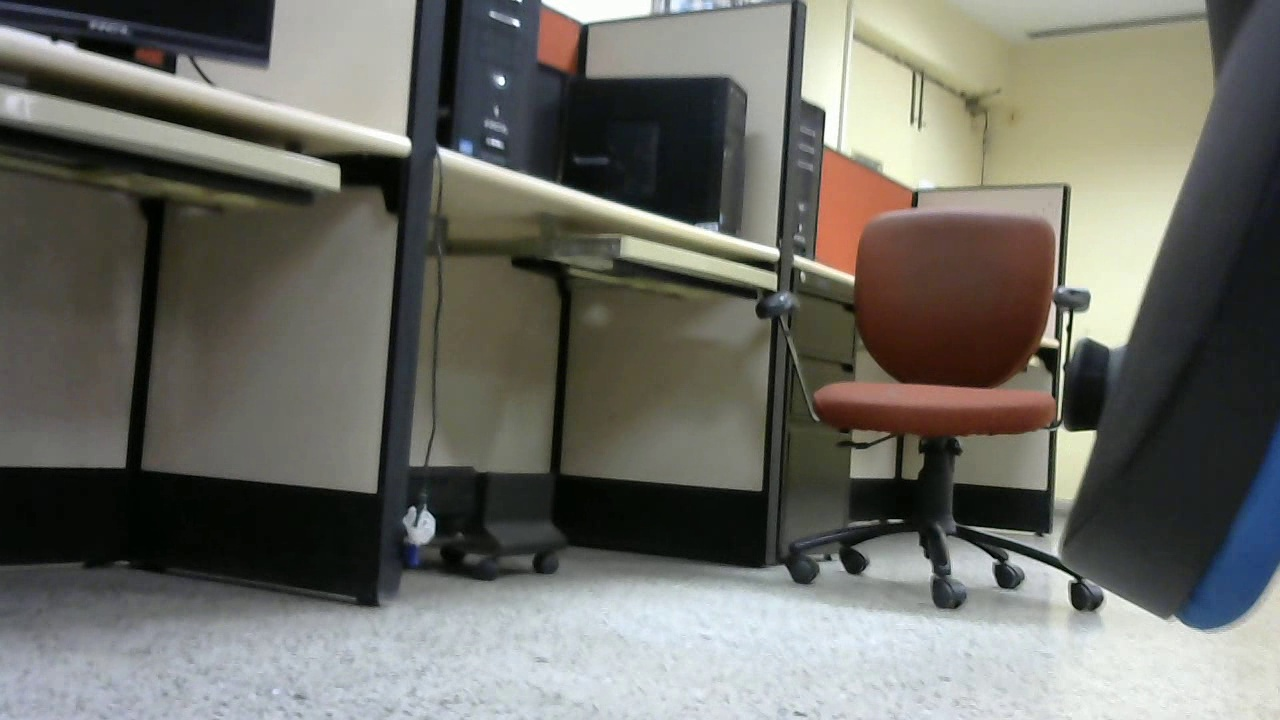chair: (473, 1, 867, 654), (1, 210, 149, 498)
